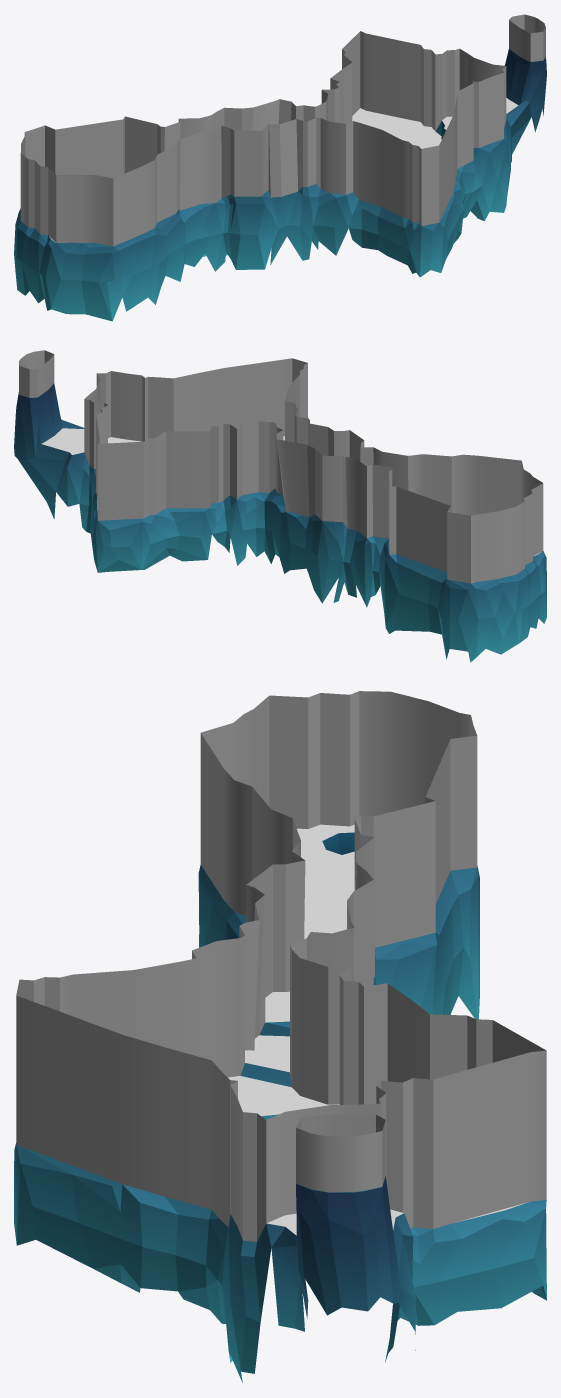
File: MOD_Level1_Versie3.fbx
3 views of the same model, one above another, from view 1: azimuth 30°, elevation 25°; view 2: azimuth 150°, elevation 25°; view 3: azimuth 270°, elevation 25° (orthographic). The views are drawn at different scales.
Parts seen in each view (by area): view 1: MOD_Level1_Floor, MOD_Level1_Walls, polySurface32; view 2: MOD_Level1_Floor, MOD_Level1_Walls; view 3: MOD_Level1_Floor, MOD_Level1_Walls.
Part boxes in pixels (<box>): MOD_Level1_Floor: <box>20,14,545,246</box>; MOD_Level1_Walls: <box>14,49,546,321</box>; polySurface32: <box>205,233,222,271</box>; MOD_Level1_Floor: <box>19,350,543,583</box>; MOD_Level1_Walls: <box>14,383,546,662</box>; MOD_Level1_Floor: <box>16,691,546,1241</box>; MOD_Level1_Walls: <box>14,865,546,1382</box>.
Size of the model in its own units: 0.2033 by 0.0629 by 0.094.
Materials: 4 (2 with a texture image).
